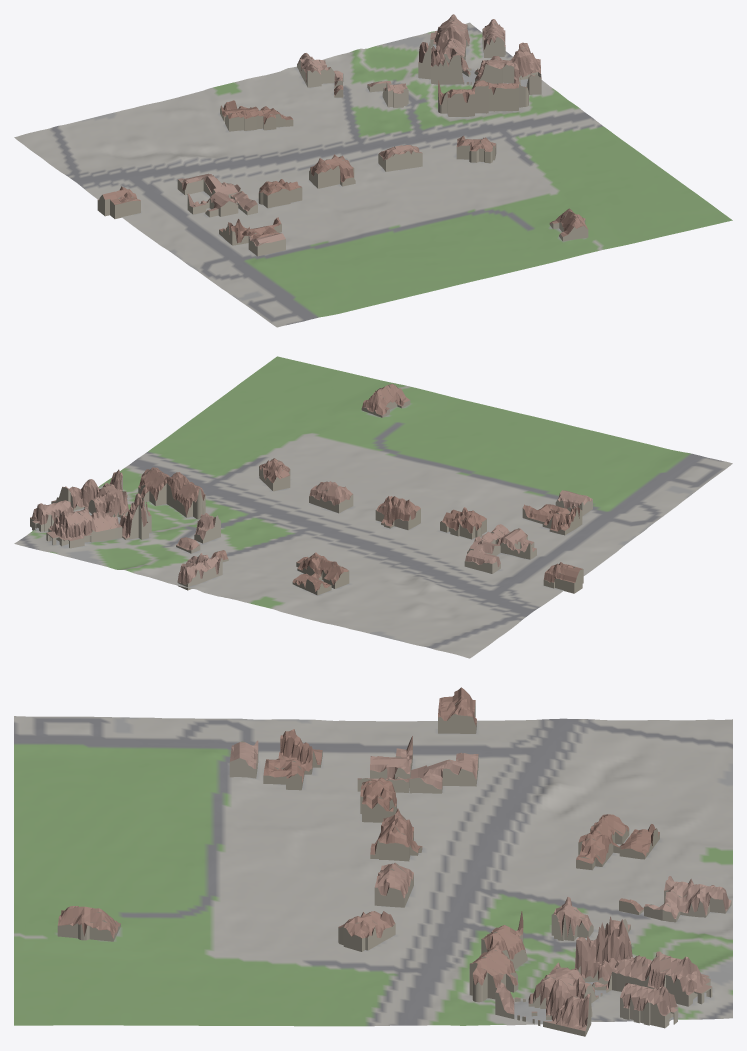
3 views of the same model, one above another, from view 1: azimuth 30°, elevation 25°; view 2: azimuth 150°, elevation 25°; view 3: azimuth 270°, elevation 25° (orthographic). The views are drawn at different scales.
Visible parts, largest first — view 1: ground, b:way/1302867822, b:way/151911585, b:way/152188682, b:way/169842490, b:way/130067979, b:way/169842513, b:way/130068001, b:way/169842494, b:way/169842495, b:way/169842496, b:way/169842489 (+6 smaller); view 2: ground, b:way/1302867822, b:way/151911585, b:way/130067979, b:way/152188682, b:way/175103918, b:way/169842513, b:way/169842490, b:way/130068001, b:way/169842495, b:way/169842496, b:way/23659404 (+6 smaller); view 3: ground, b:way/1302867822, b:way/130067979, b:way/151911585, b:way/152188682, b:way/130068001, b:way/175103918, b:way/130068002, b:way/169842489, b:way/23659404, b:way/169842514, b:way/169842513 (+6 smaller).
Boxes of the visible parts, box(x1,y1,x2,y2) form: ground: box(14, 22, 732, 327); b:way/1302867822: box(418, 42, 541, 94); b:way/151911585: box(438, 80, 528, 116); b:way/152188682: box(220, 100, 293, 131); b:way/169842490: box(187, 191, 257, 217); b:way/130067979: box(430, 14, 469, 62); b:way/169842513: box(309, 154, 355, 188); b:way/130068001: box(297, 53, 343, 88); b:way/169842494: box(97, 186, 140, 218); b:way/169842495: box(258, 179, 302, 208); b:way/169842496: box(378, 145, 422, 171); b:way/169842489: box(177, 173, 240, 198); ground: box(14, 356, 732, 658); b:way/1302867822: box(51, 469, 151, 539); b:way/151911585: box(138, 467, 205, 519); b:way/130067979: box(46, 507, 122, 548); b:way/152188682: box(292, 552, 349, 595); b:way/175103918: box(522, 504, 582, 535); b:way/169842513: box(375, 496, 420, 529); b:way/169842490: box(480, 524, 536, 559); b:way/130068001: box(177, 553, 222, 590); b:way/169842495: box(440, 507, 486, 539); b:way/169842496: box(309, 481, 353, 513); b:way/23659404: box(361, 383, 410, 417); ground: box(14, 716, 732, 1026); b:way/1302867822: box(495, 916, 632, 1036); b:way/130067979: box(612, 951, 712, 1006); b:way/151911585: box(469, 911, 527, 1002); b:way/152188682: box(576, 814, 659, 870); b:way/130068001: box(644, 876, 731, 922); b:way/175103918: box(263, 729, 322, 790); b:way/130068002: box(620, 983, 678, 1028); b:way/169842489: box(409, 752, 478, 793); b:way/23659404: box(57, 906, 120, 941); b:way/169842514: box(338, 911, 395, 951); b:way/169842513: box(370, 808, 422, 861).
Bounding box in the file's own units: 265 × 21.2 × 250.
